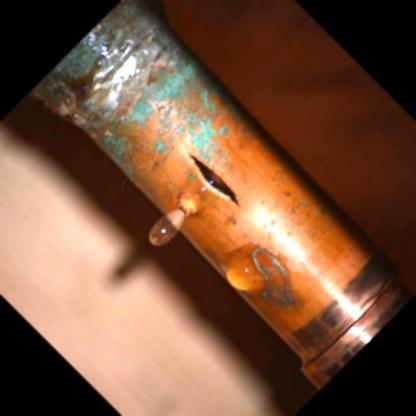burst: (179, 149, 257, 219)
